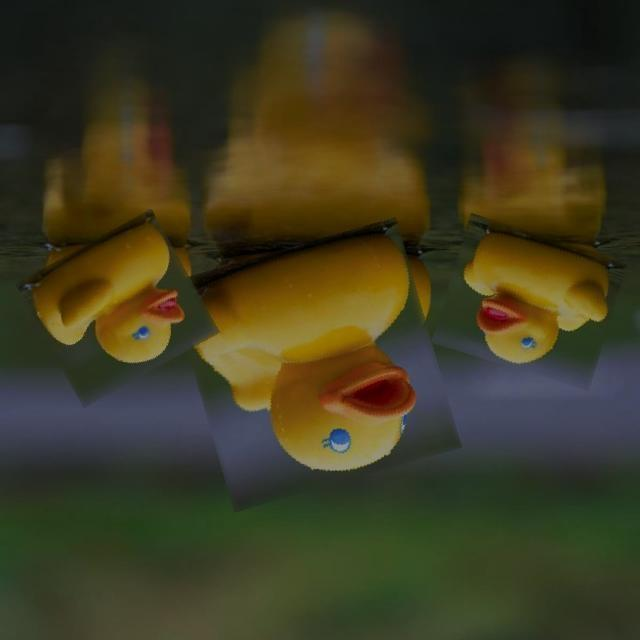rubber-duck: (196, 235, 416, 471), (21, 210, 185, 363), (464, 234, 608, 363)
